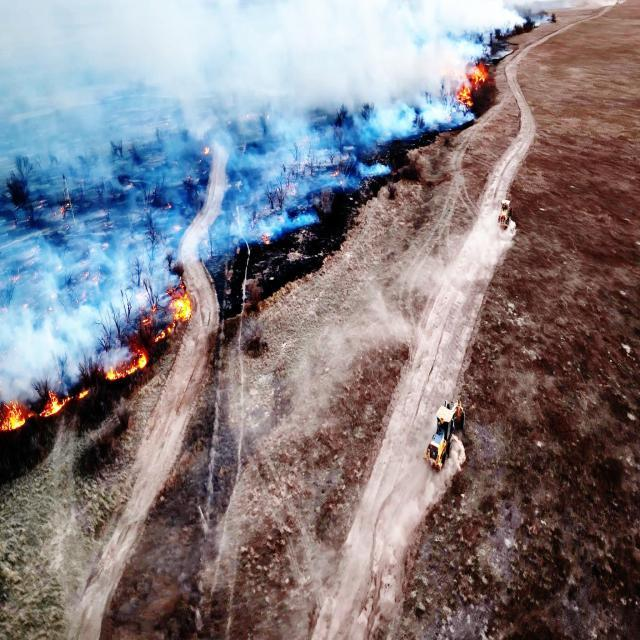Fire: (456, 55, 489, 113), (101, 347, 149, 384), (27, 393, 72, 423), (168, 278, 196, 322), (0, 398, 27, 434), (142, 297, 156, 327), (156, 327, 173, 347), (78, 386, 90, 402), (260, 234, 272, 248), (331, 166, 341, 178), (203, 146, 210, 158)
Smoke: (0, 0, 99, 383), (100, 2, 456, 84), (180, 88, 456, 134), (102, 83, 142, 344), (228, 134, 386, 176), (142, 85, 166, 295), (457, 0, 521, 55), (226, 178, 353, 198), (225, 199, 312, 225), (168, 87, 180, 270), (182, 138, 196, 217), (208, 228, 276, 234), (204, 242, 224, 258)
